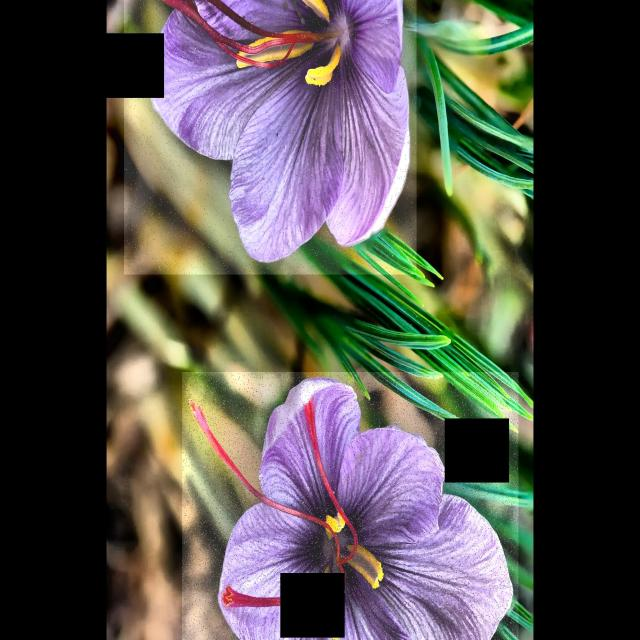Flower: (182, 371, 518, 640), (124, 0, 417, 274)
stigma: (188, 402, 342, 565), (160, 0, 323, 71), (298, 396, 360, 569), (202, 1, 328, 44), (220, 584, 282, 611)
